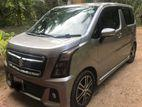car: (5, 2, 137, 107)
